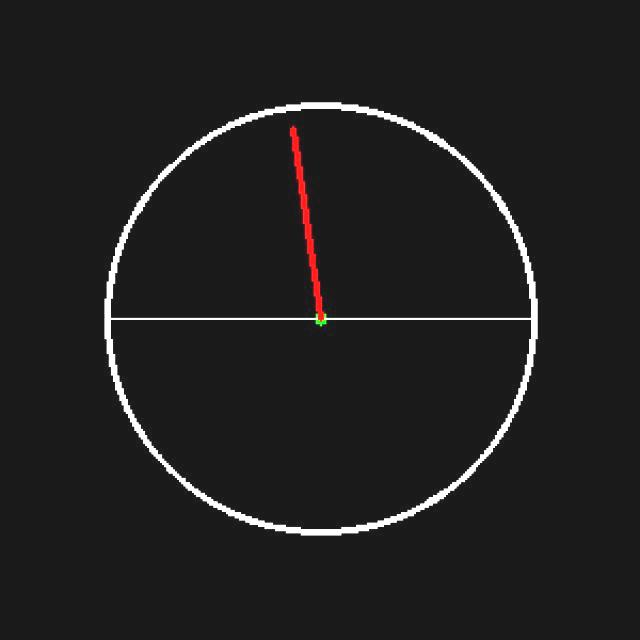Needle_Tip: (275, 114, 316, 160)
Needle_base: (285, 281, 358, 343)
